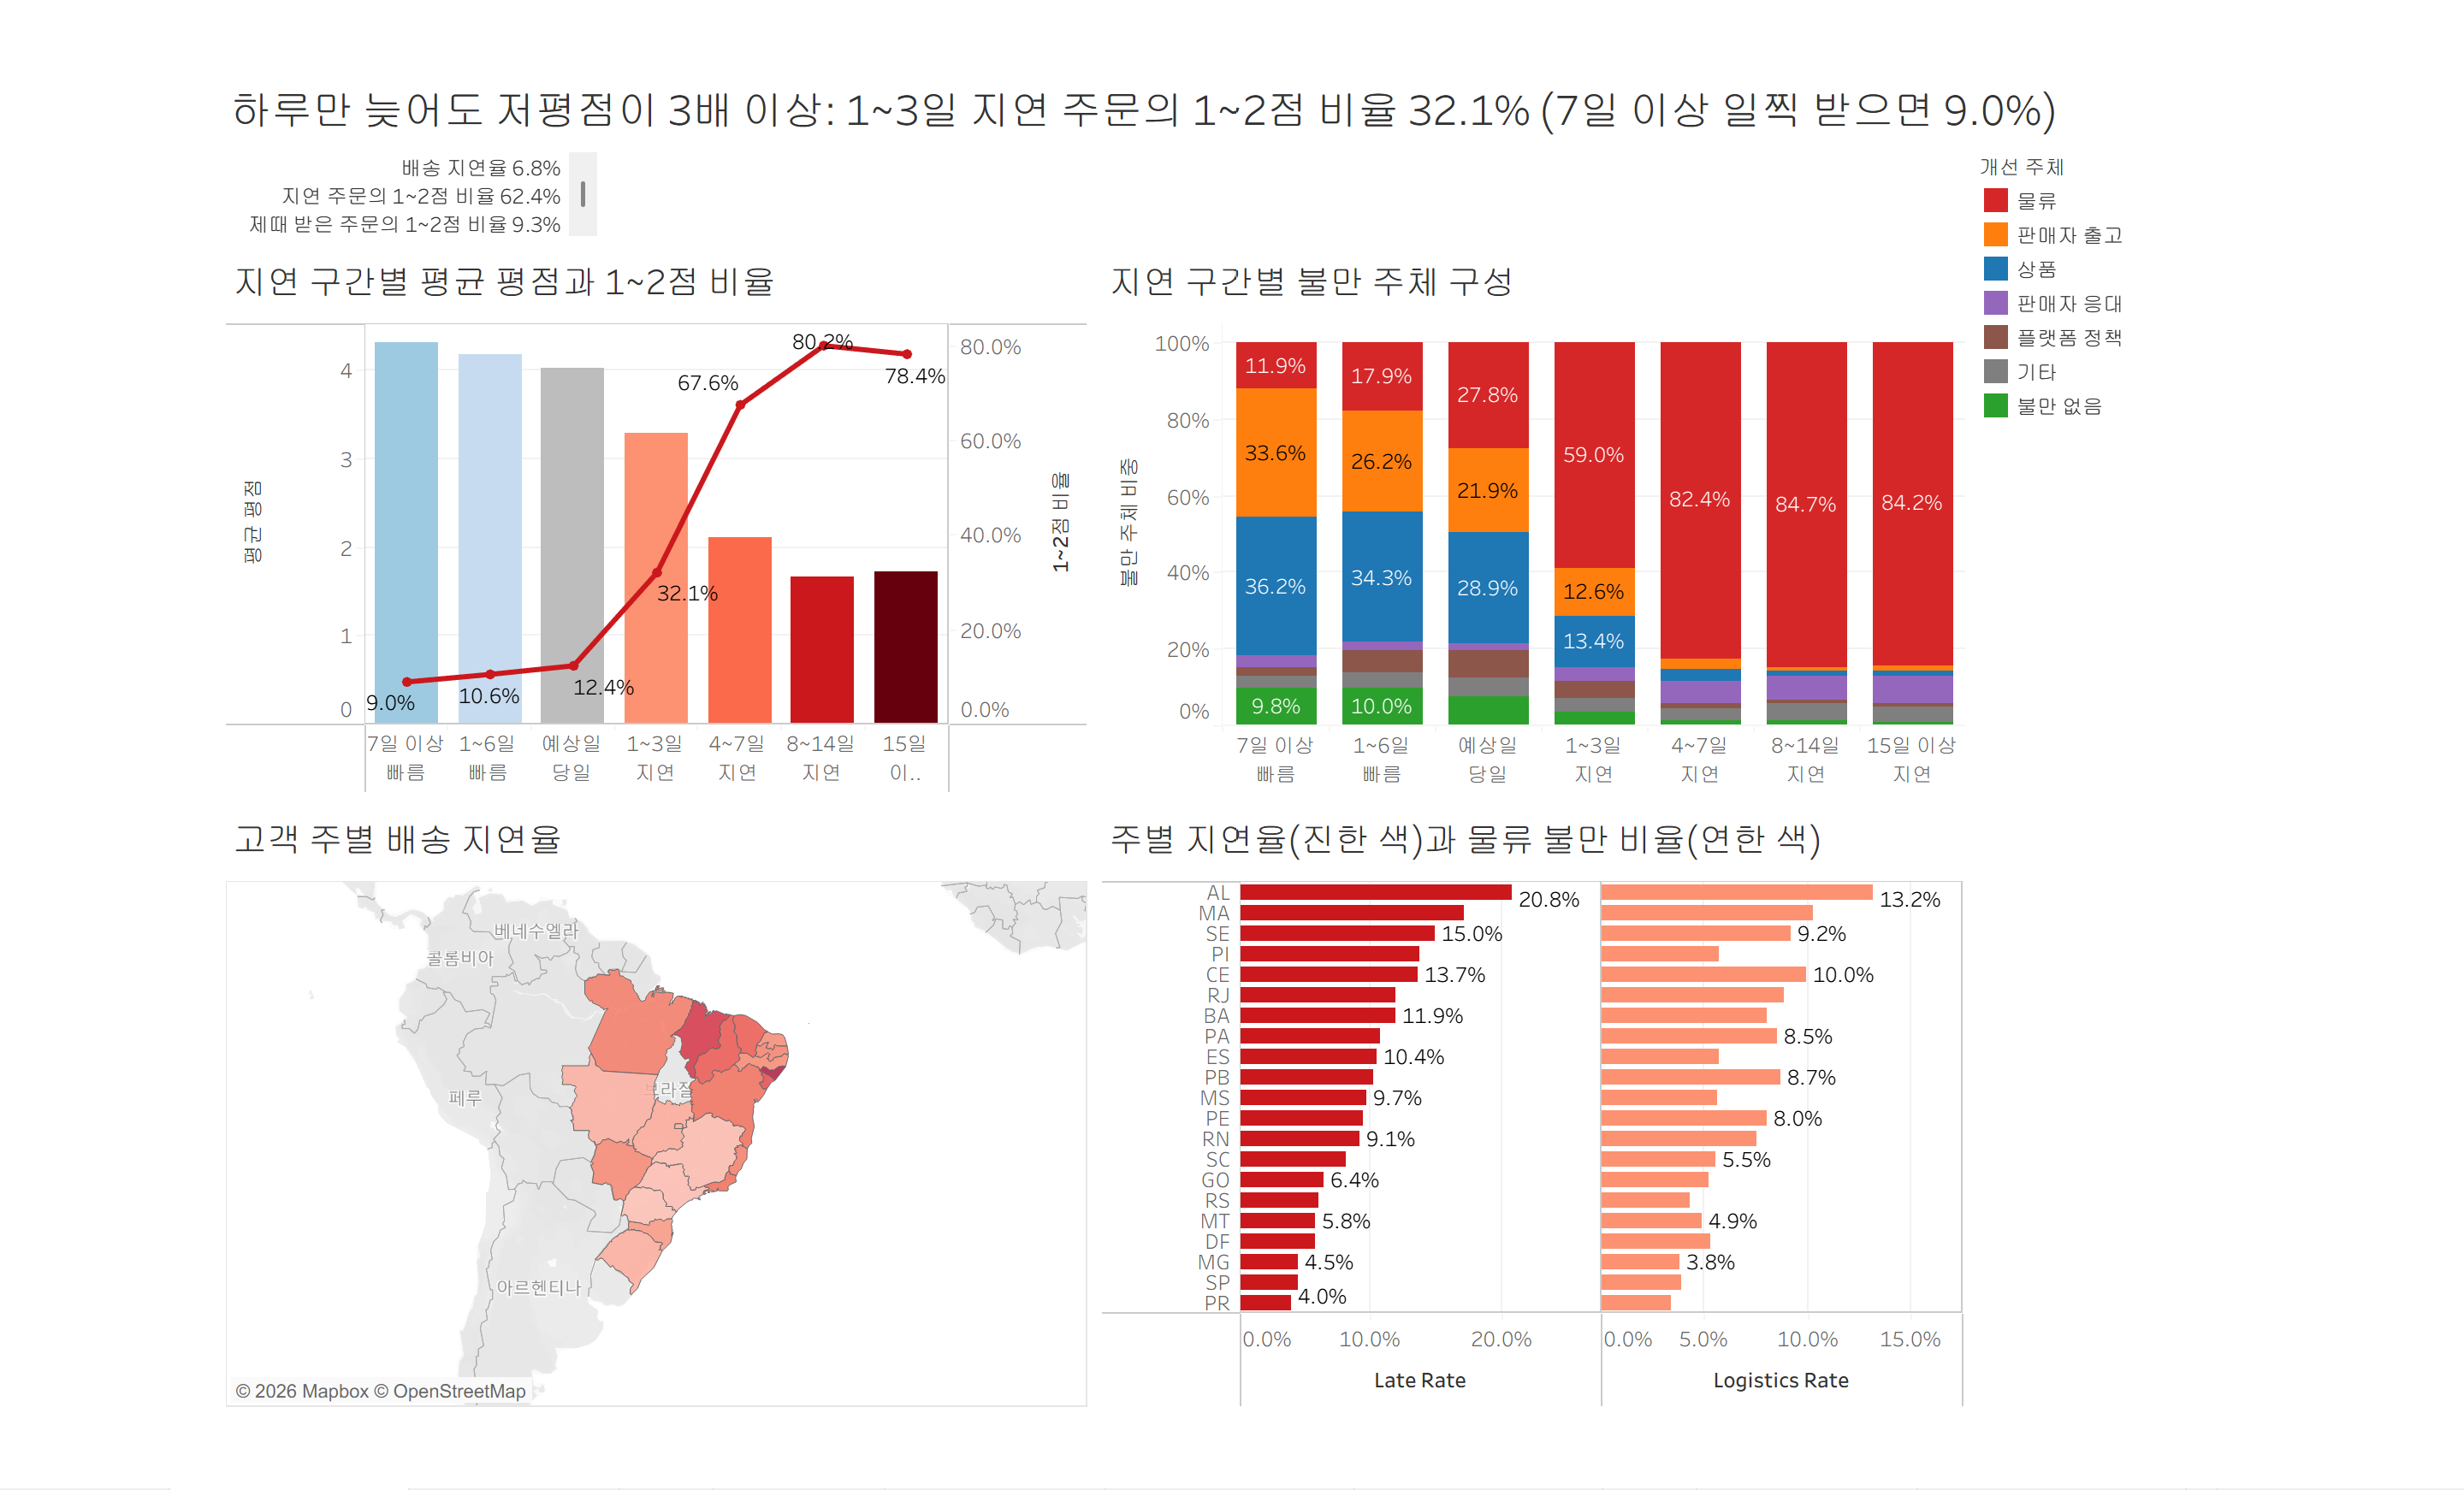

Layout of this report page (visuals, bound fields, positions):
{"tool":"tableau","page":{"name":"② 배송 지연의 영향","canvas":[1200,800],"ordinal":1},"visuals":[{"type":"title","box":[8,8,1184,42]},{"type":"worksheet","title":"2-1 KPI","mark":"Automatic","box":[8,50,1024,56.8]},{"type":"legend","title":"2-3 지연 구간별 불만 구성","param":"[federated.0ayrg7b0hzd4p91b15rr313y8llj].[none:owner:nk]","box":[1032,50,160,166]},{"type":"worksheet","title":"2-2 지연 구간별 평점","mark":"Bar","rows":["review_score","Calculation_0963500557422595"],"cols":["delay_bucket"],"box":[8,106.8,512,326.2]},{"type":"worksheet","title":"2-3 지연 구간별 불만 구성","mark":"Automatic","cols":["delay_bucket"],"box":[520,106.8,512,326.2]},{"type":"worksheet","title":"2-4 고객 주별 지연율","mark":"Multipolygon","box":[8,433,512,359]},{"type":"worksheet","title":"2-5 주별 지연율 vs 물류 불만","mark":"Automatic","rows":["customer_state (state_summary.csv)"],"cols":["late_rate","logistics_rate"],"box":[520,433,512,359]}]}

Visuals, with their boxes on the page's 1200x800 design canvas (x1, y1, x2, y2). These are canvas units, not pixel positions in the 2464x1490 screenshot, which may show the page scaled, cropped or inside an application window:
title: left=8, top=8, right=1192, bottom=50
"2-1 KPI" worksheet: left=8, top=50, right=1032, bottom=107
"2-3 지연 구간별 불만 구성" legend: left=1032, top=50, right=1192, bottom=216
"2-2 지연 구간별 평점" worksheet (Bar marks): left=8, top=107, right=520, bottom=433
"2-3 지연 구간별 불만 구성" worksheet: left=520, top=107, right=1032, bottom=433
"2-4 고객 주별 지연율" worksheet (Multipolygon marks): left=8, top=433, right=520, bottom=792
"2-5 주별 지연율 vs 물류 불만" worksheet: left=520, top=433, right=1032, bottom=792
